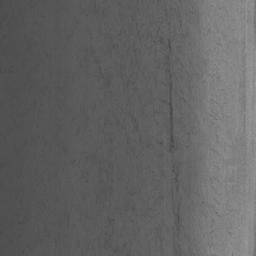Silk spot: (104, 0, 234, 256), (210, 95, 228, 161), (113, 178, 141, 196)
